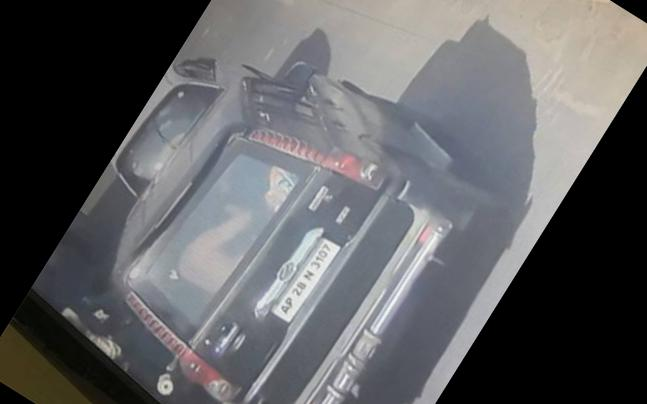plate: (250, 214, 360, 339)
